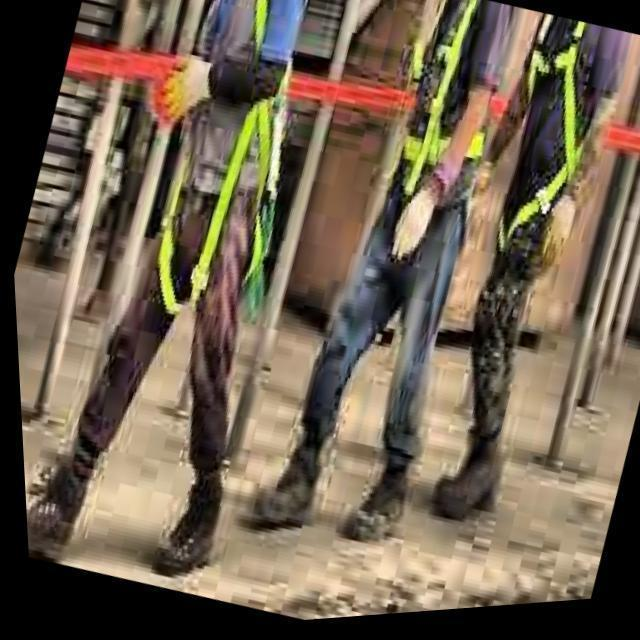Harness: (157, 97, 276, 315), (405, 0, 480, 194), (509, 39, 581, 236)
